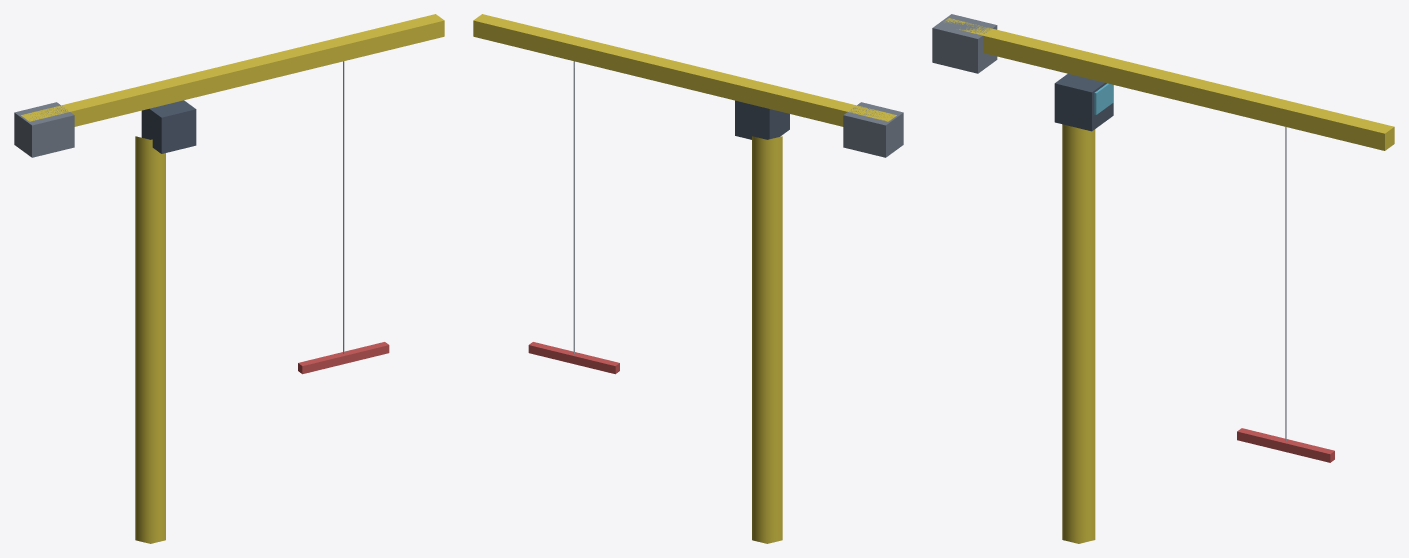
File: construction-crane.glb
3 renders of one model, left to right at view 1: azimuth 30°, elevation 25°; view 2: azimuth 150°, elevation 25°; view 3: azimuth 330°, elevation 25°, orthographic. The views are drawn at different scales.
Parts seen in each view (by area): view 1: Root; view 2: Root; view 3: Root.
Part boxes in pixels (<box>): Root: <box>14,14,444,543</box>; Root: <box>473,14,903,543</box>; Root: <box>932,14,1394,543</box>.
Bounding box in the file's own units: 21.6 × 22.2 × 2.3.
